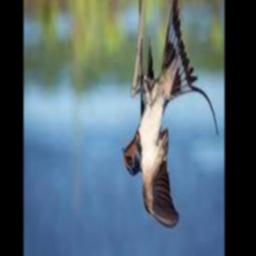Swallow: (123, 0, 218, 227)
